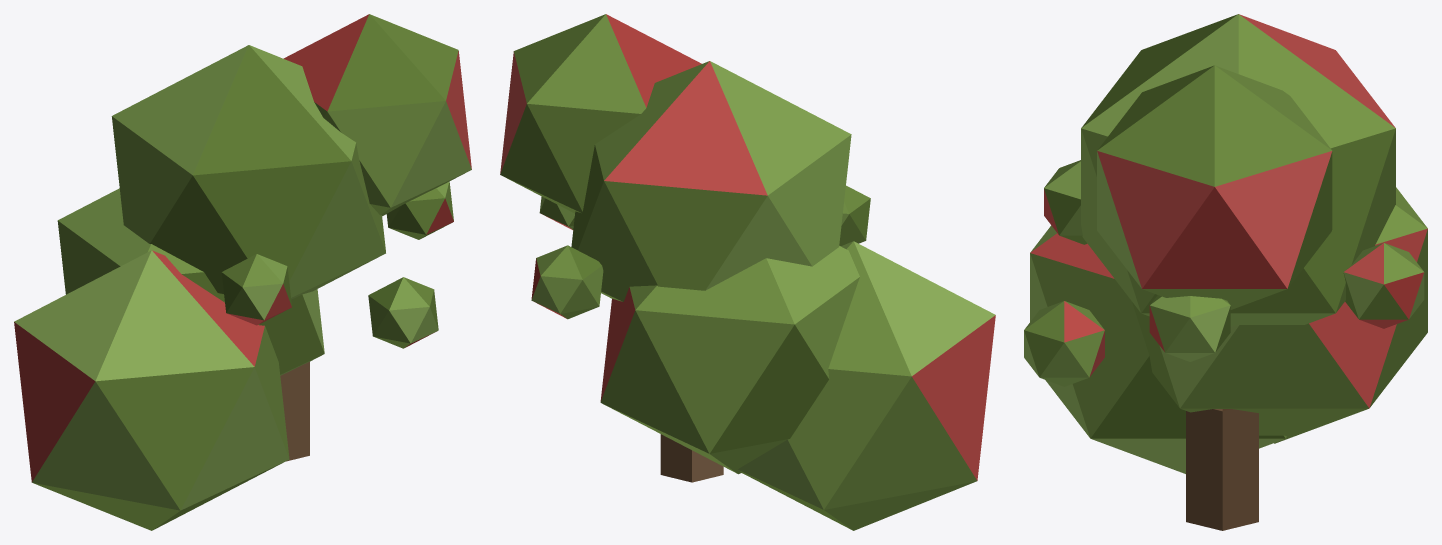
File: Plant_Berry_a.glb
3 views of the same model, side by side, from view 1: azimuth 30°, elevation 25°; view 2: azimuth 150°, elevation 25°; view 3: azimuth 270°, elevation 25° (orthographic). The views are drawn at different scales.
Parts seen in each view (by area): view 1: Plant_Berry_a; view 2: Plant_Berry_a; view 3: Plant_Berry_a.
Part boxes in pixels (x1,y1,x2,y2): Plant_Berry_a: [14, 14, 471, 530]; Plant_Berry_a: [500, 14, 995, 530]; Plant_Berry_a: [1024, 14, 1427, 530].
Size of what is drawn, in the model's own units: 0.5746 by 0.568 by 0.3825.
Materials: 1 (1 with a texture image).
